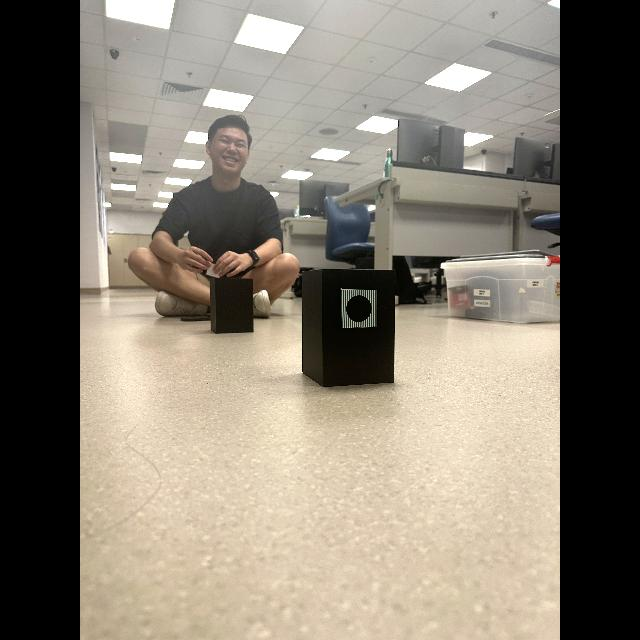CIRCLE: (346, 295, 372, 322)
